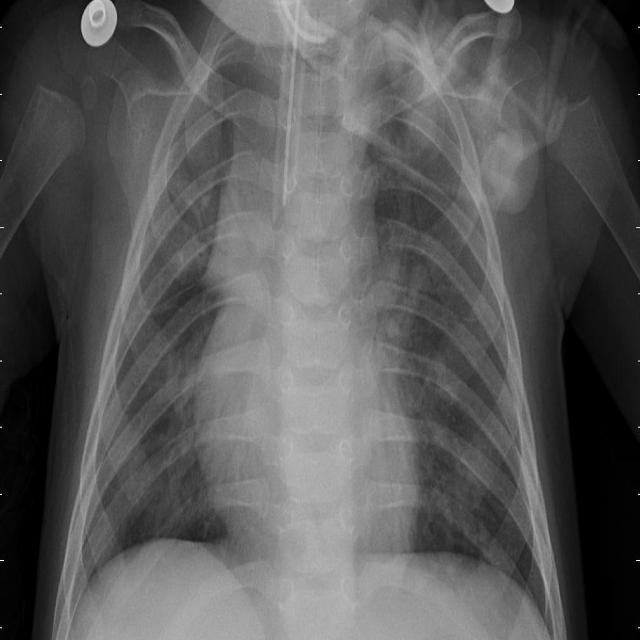high-pneumonia: (194, 134, 241, 313)
low-pneumonia: (389, 243, 426, 326)
